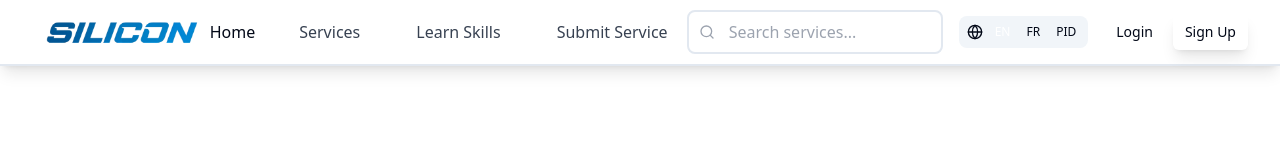
Scenario: Navbar Component › shows suggestions when user types a matching query
Step 1. Type "Alpha" into the field with placeholder "Search services..." → (815, 32), box x1=687 y1=10 x2=943 y2=54
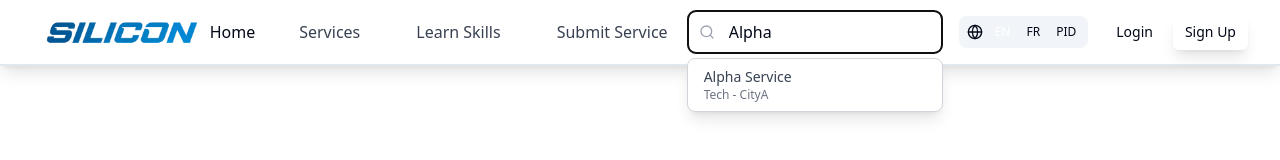
Check: the list item "Alpha Service" is shown, box x1=704 y1=67 x2=792 y2=86
Check: the number of list items is 1, box x1=704 y1=67 x2=792 y2=103
